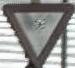Give way: (3, 2, 72, 64)
